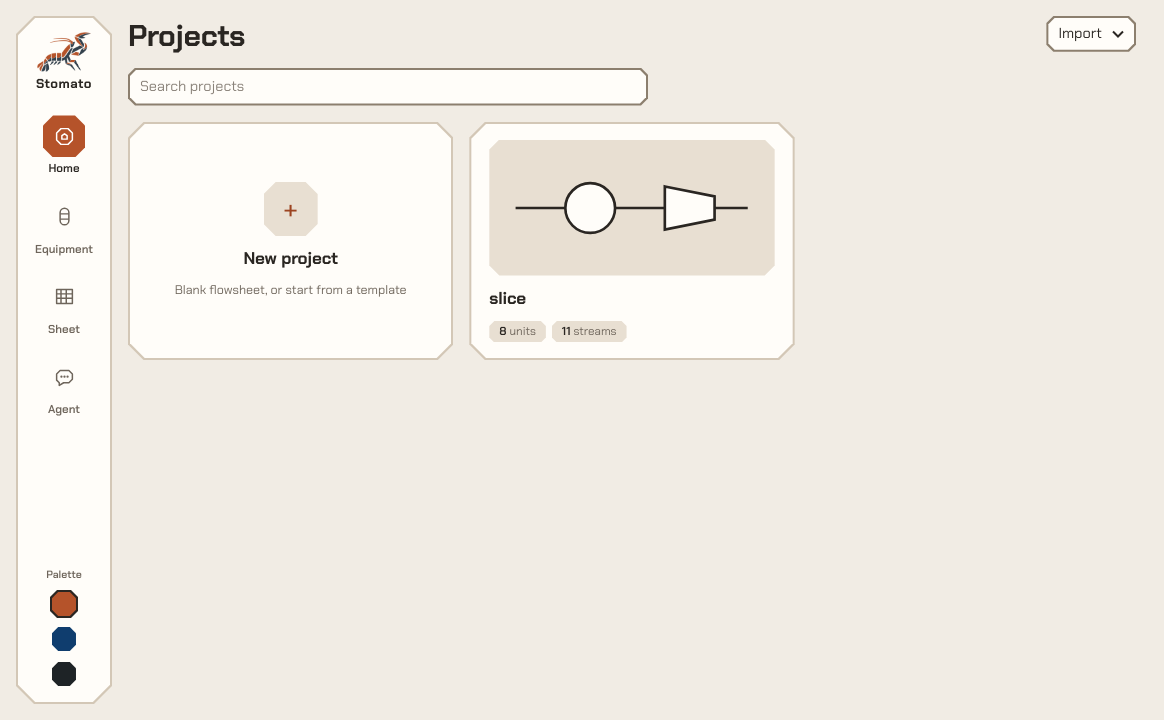
Scenario: opens the project from Home and shows every tab and the slice units from the mock
Expected: the button "Home" is shown, 25,109 -> 103,184
Expected: the button "Equipment" is shown, 25,190 -> 103,264
Step 1. Click the button "slice 8 units 11 streams" → (632, 241), box 469,122 -> 795,360
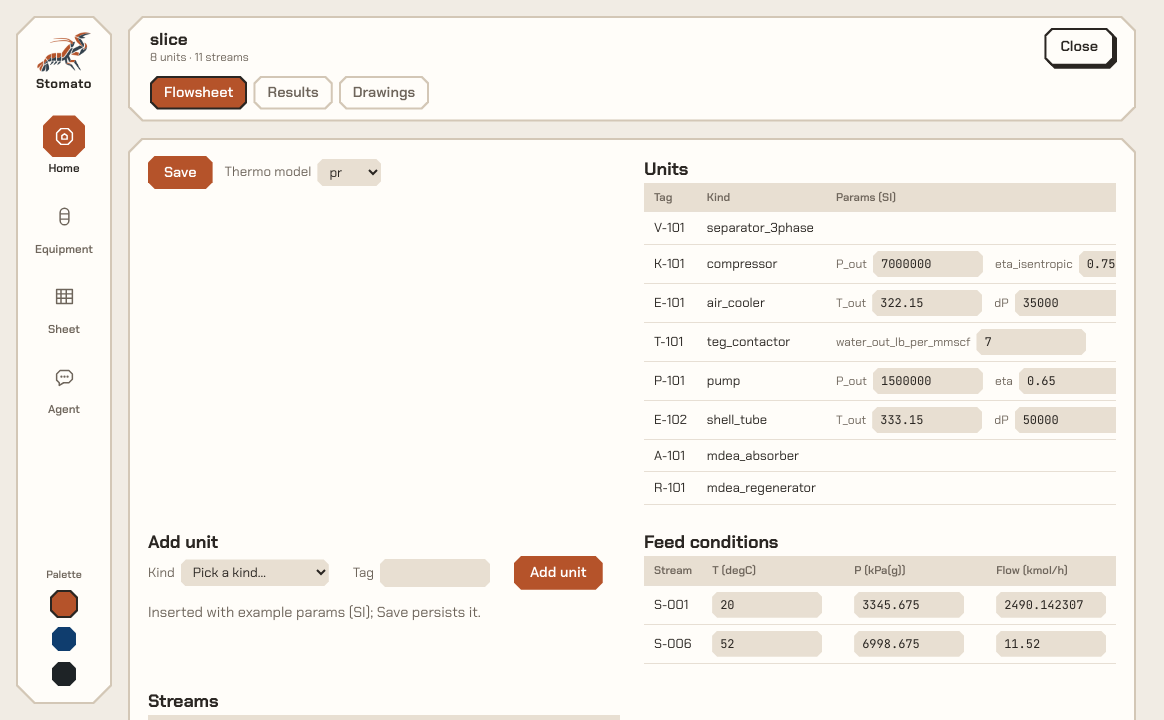
Expected: the tab "Results" is shown, 254,76 -> 333,110
Expected: the tab "Drawings" is shown
Expected: the text "V-101" is shown, 644,212 -> 697,244
Step 2. Click the tab "Drawings" → (384, 93), box 339,76 -> 429,110
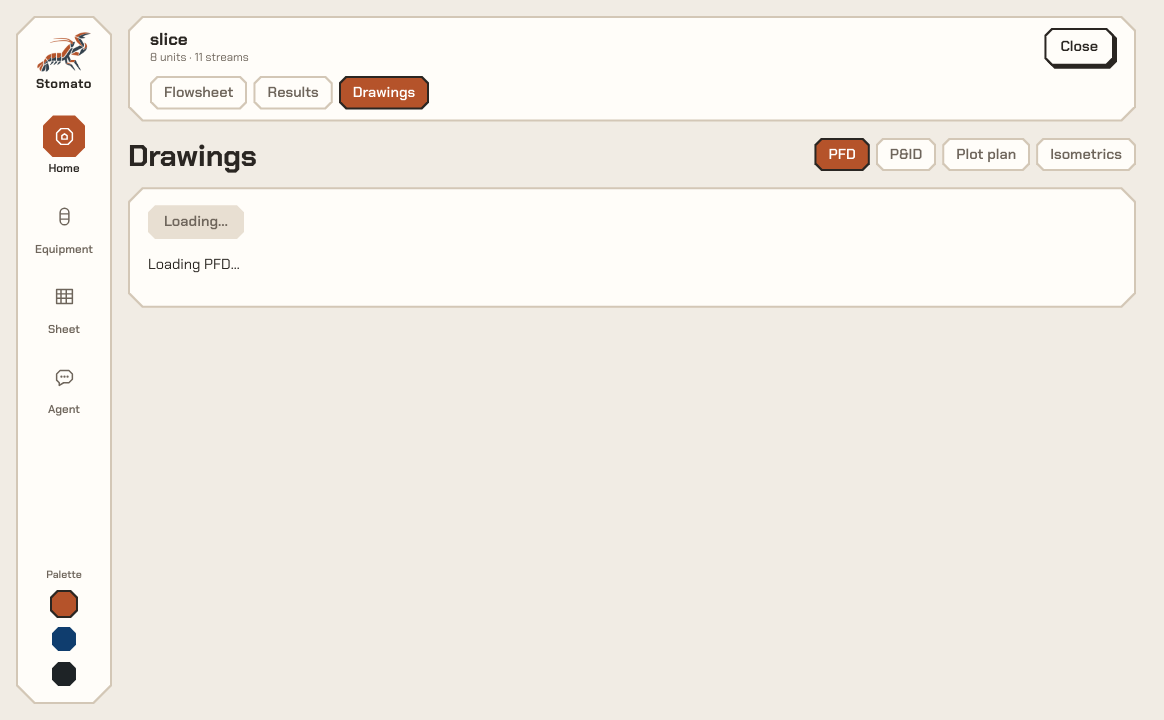
Expected: the tab "PFD" is shown, 814,138 -> 870,171
Expected: the tab "P&ID" is shown, 876,138 -> 936,171
Expected: the tab "Plot plan" is shown, 942,138 -> 1030,171
Step 3. Click the button "Close" → (1079, 47), box 1044,28 -> 1114,66
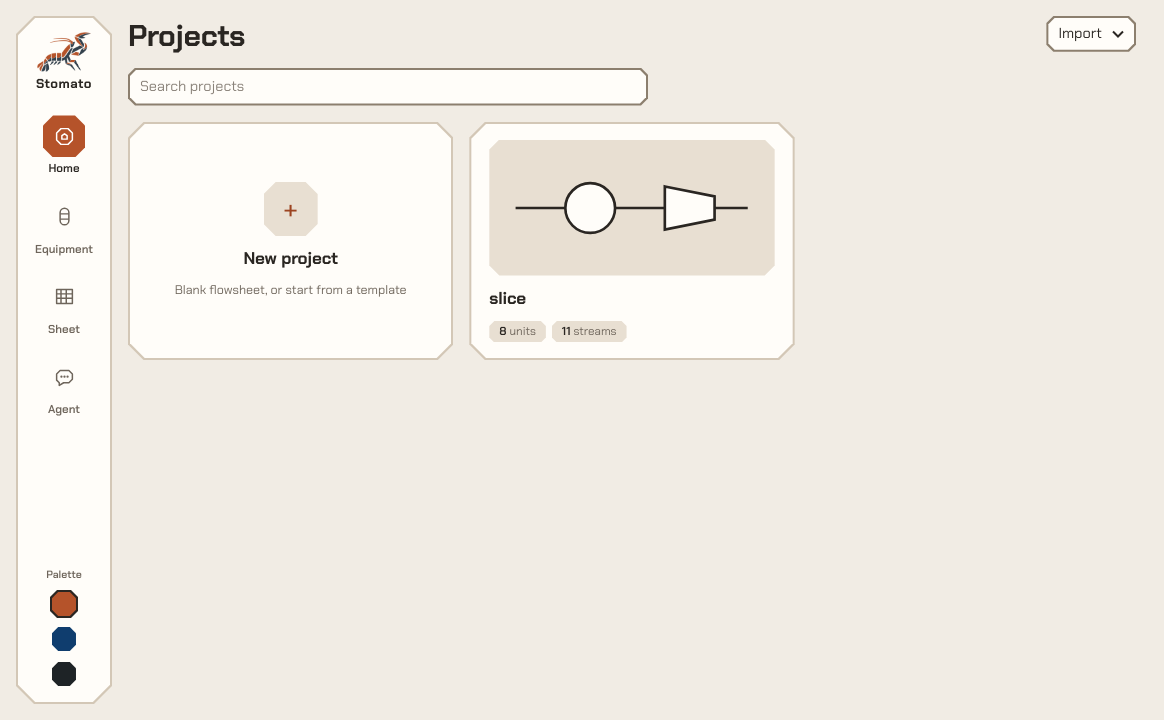
Expected: the heading "Projects" is shown, 128,20 -> 245,52
